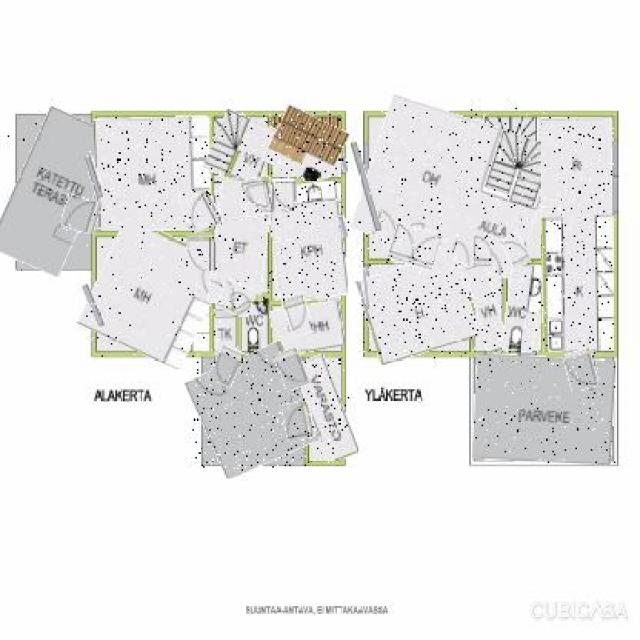door: (391, 226, 440, 269), (183, 191, 220, 232), (241, 177, 274, 217), (566, 349, 597, 391), (63, 197, 100, 232), (210, 346, 242, 386), (277, 348, 308, 389), (218, 282, 254, 316), (283, 403, 314, 440), (186, 235, 217, 271), (284, 296, 310, 336), (505, 234, 529, 266), (272, 182, 297, 209), (474, 236, 492, 266)
window: (357, 140, 375, 232), (86, 283, 102, 328), (88, 156, 101, 198), (363, 268, 369, 309), (340, 215, 349, 237), (340, 155, 348, 174)
zone: (360, 105, 549, 269), (88, 225, 218, 362), (541, 117, 614, 352), (1, 111, 104, 272), (474, 355, 615, 463), (192, 349, 316, 471), (96, 117, 210, 229), (361, 258, 474, 358), (269, 180, 345, 300), (212, 182, 270, 306), (268, 111, 344, 183), (302, 356, 349, 462), (209, 112, 274, 185), (271, 303, 343, 355), (504, 263, 542, 352), (470, 264, 504, 354), (242, 304, 269, 350), (216, 315, 236, 351)
